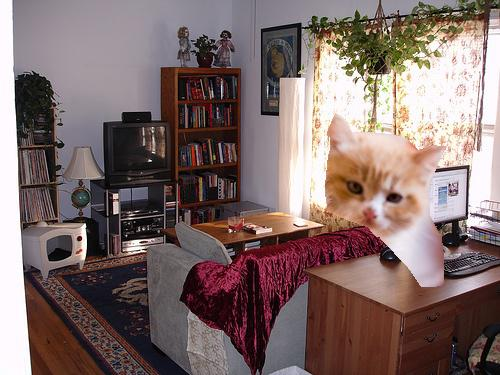tampered: (326, 114, 446, 287)
